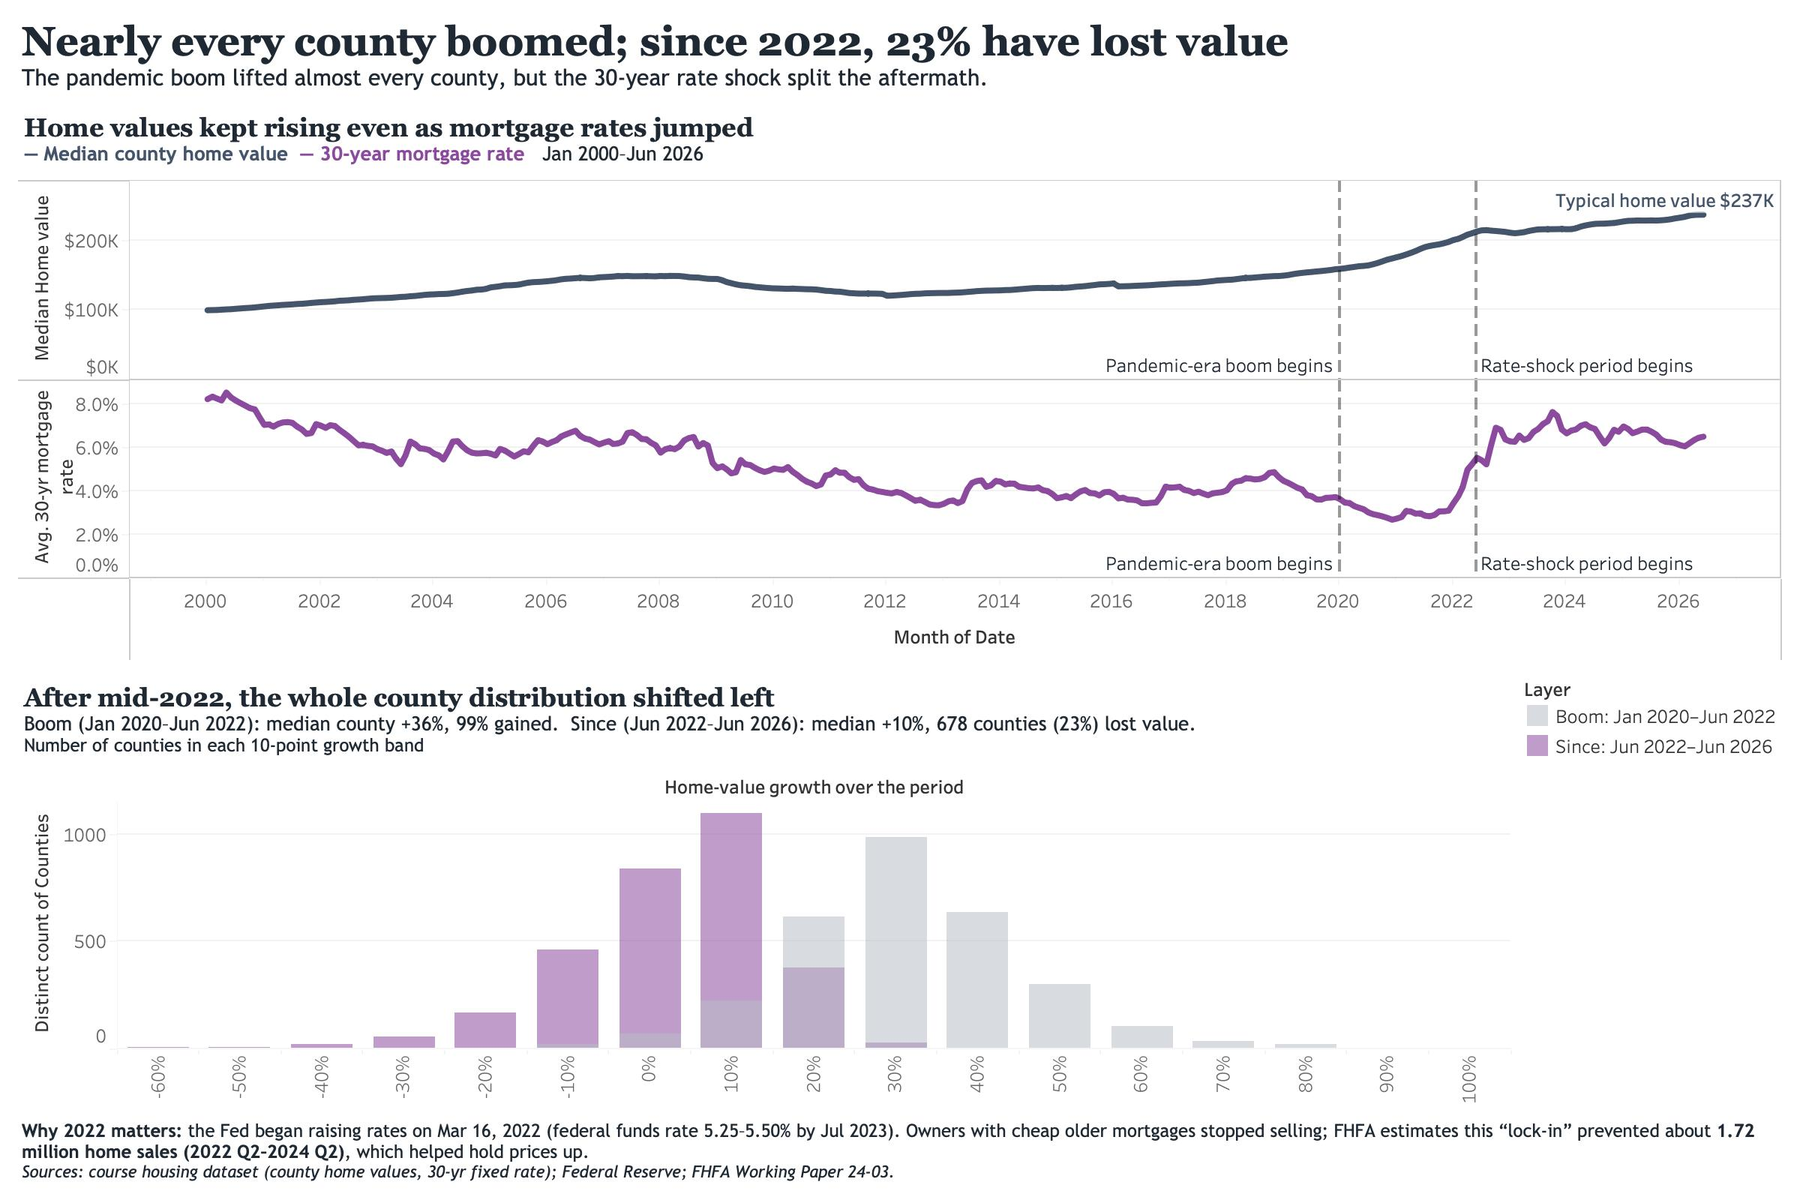

Layout of this report page (visuals, bound fields, positions):
{"tool":"tableau","page":{"name":"DB1 - National Cycle","canvas":[1200,800],"ordinal":0},"visuals":[{"type":"title","box":[8,8,1184,57]},{"type":"worksheet","title":"01 Market Timeline","mark":"Line","rows":["allhomes_median_midtier","us_frm_30yr"],"cols":["Calculation_6313575922466817"],"box":[8,65,1184,380]},{"type":"worksheet","title":"02 County Growth Layers","mark":"Bar","rows":["FIPS"],"cols":["Layer Growth (bin)"],"box":[8,445,1003,298]},{"type":"legend","title":"02 County Growth Layers","param":"[federated.0duybsb164gni9137orwr1ndk0vf].[none:Calculation_9120000000000002:nk]","box":[1011,445,181,298]},{"type":"text","box":[8,743,1184,49]}]}

Visuals, with their boxes in screenshot pixels (x1, y1, x2, y2), scaled from the page's 1200x800 canvas onto the 1800x1200 screenshot:
title: bbox(12, 12, 1788, 98)
"01 Market Timeline" worksheet (Line marks): bbox(12, 98, 1788, 668)
"02 County Growth Layers" worksheet (Bar marks): bbox(12, 668, 1516, 1114)
"02 County Growth Layers" legend: bbox(1516, 668, 1788, 1114)
text: bbox(12, 1114, 1788, 1188)
